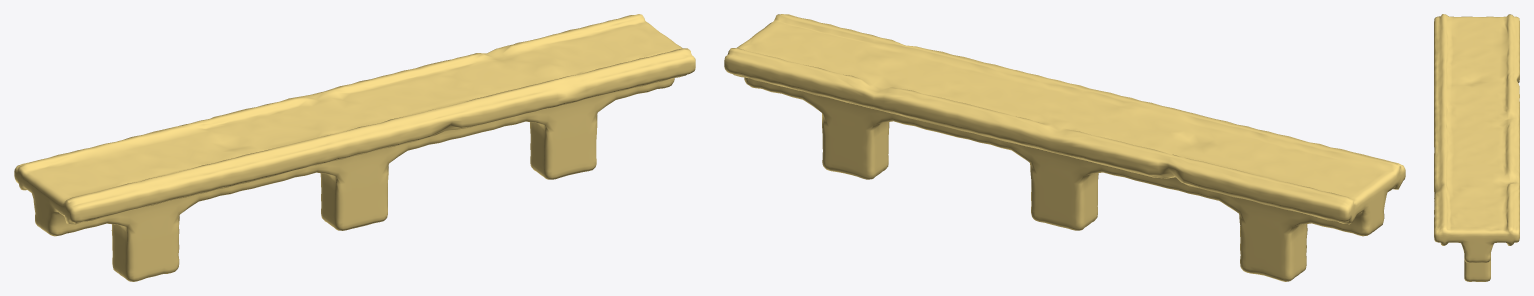
Rendered from arch01-4.fbx.
3 renders of one model, left to right at view 1: azimuth 30°, elevation 25°; view 2: azimuth 150°, elevation 25°; view 3: azimuth 270°, elevation 25°, orthographic. The views are drawn at different scales.
Parts seen in each view (by area): view 1: pCube12; view 2: pCube12; view 3: pCube12.
Part boxes in pixels (<box>): pCube12: <box>14,14,695,281</box>; pCube12: <box>724,14,1405,281</box>; pCube12: <box>1434,14,1519,281</box>.
Bounding box in the file's own units: 11.96 × 2.08 × 2.
